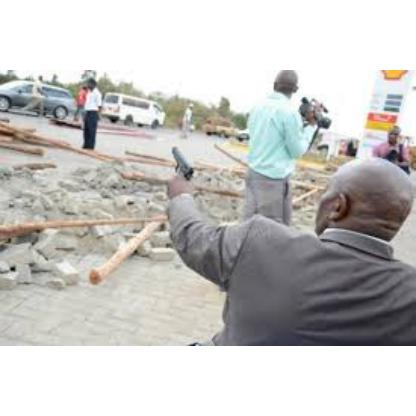gun: (168, 141, 192, 197)
